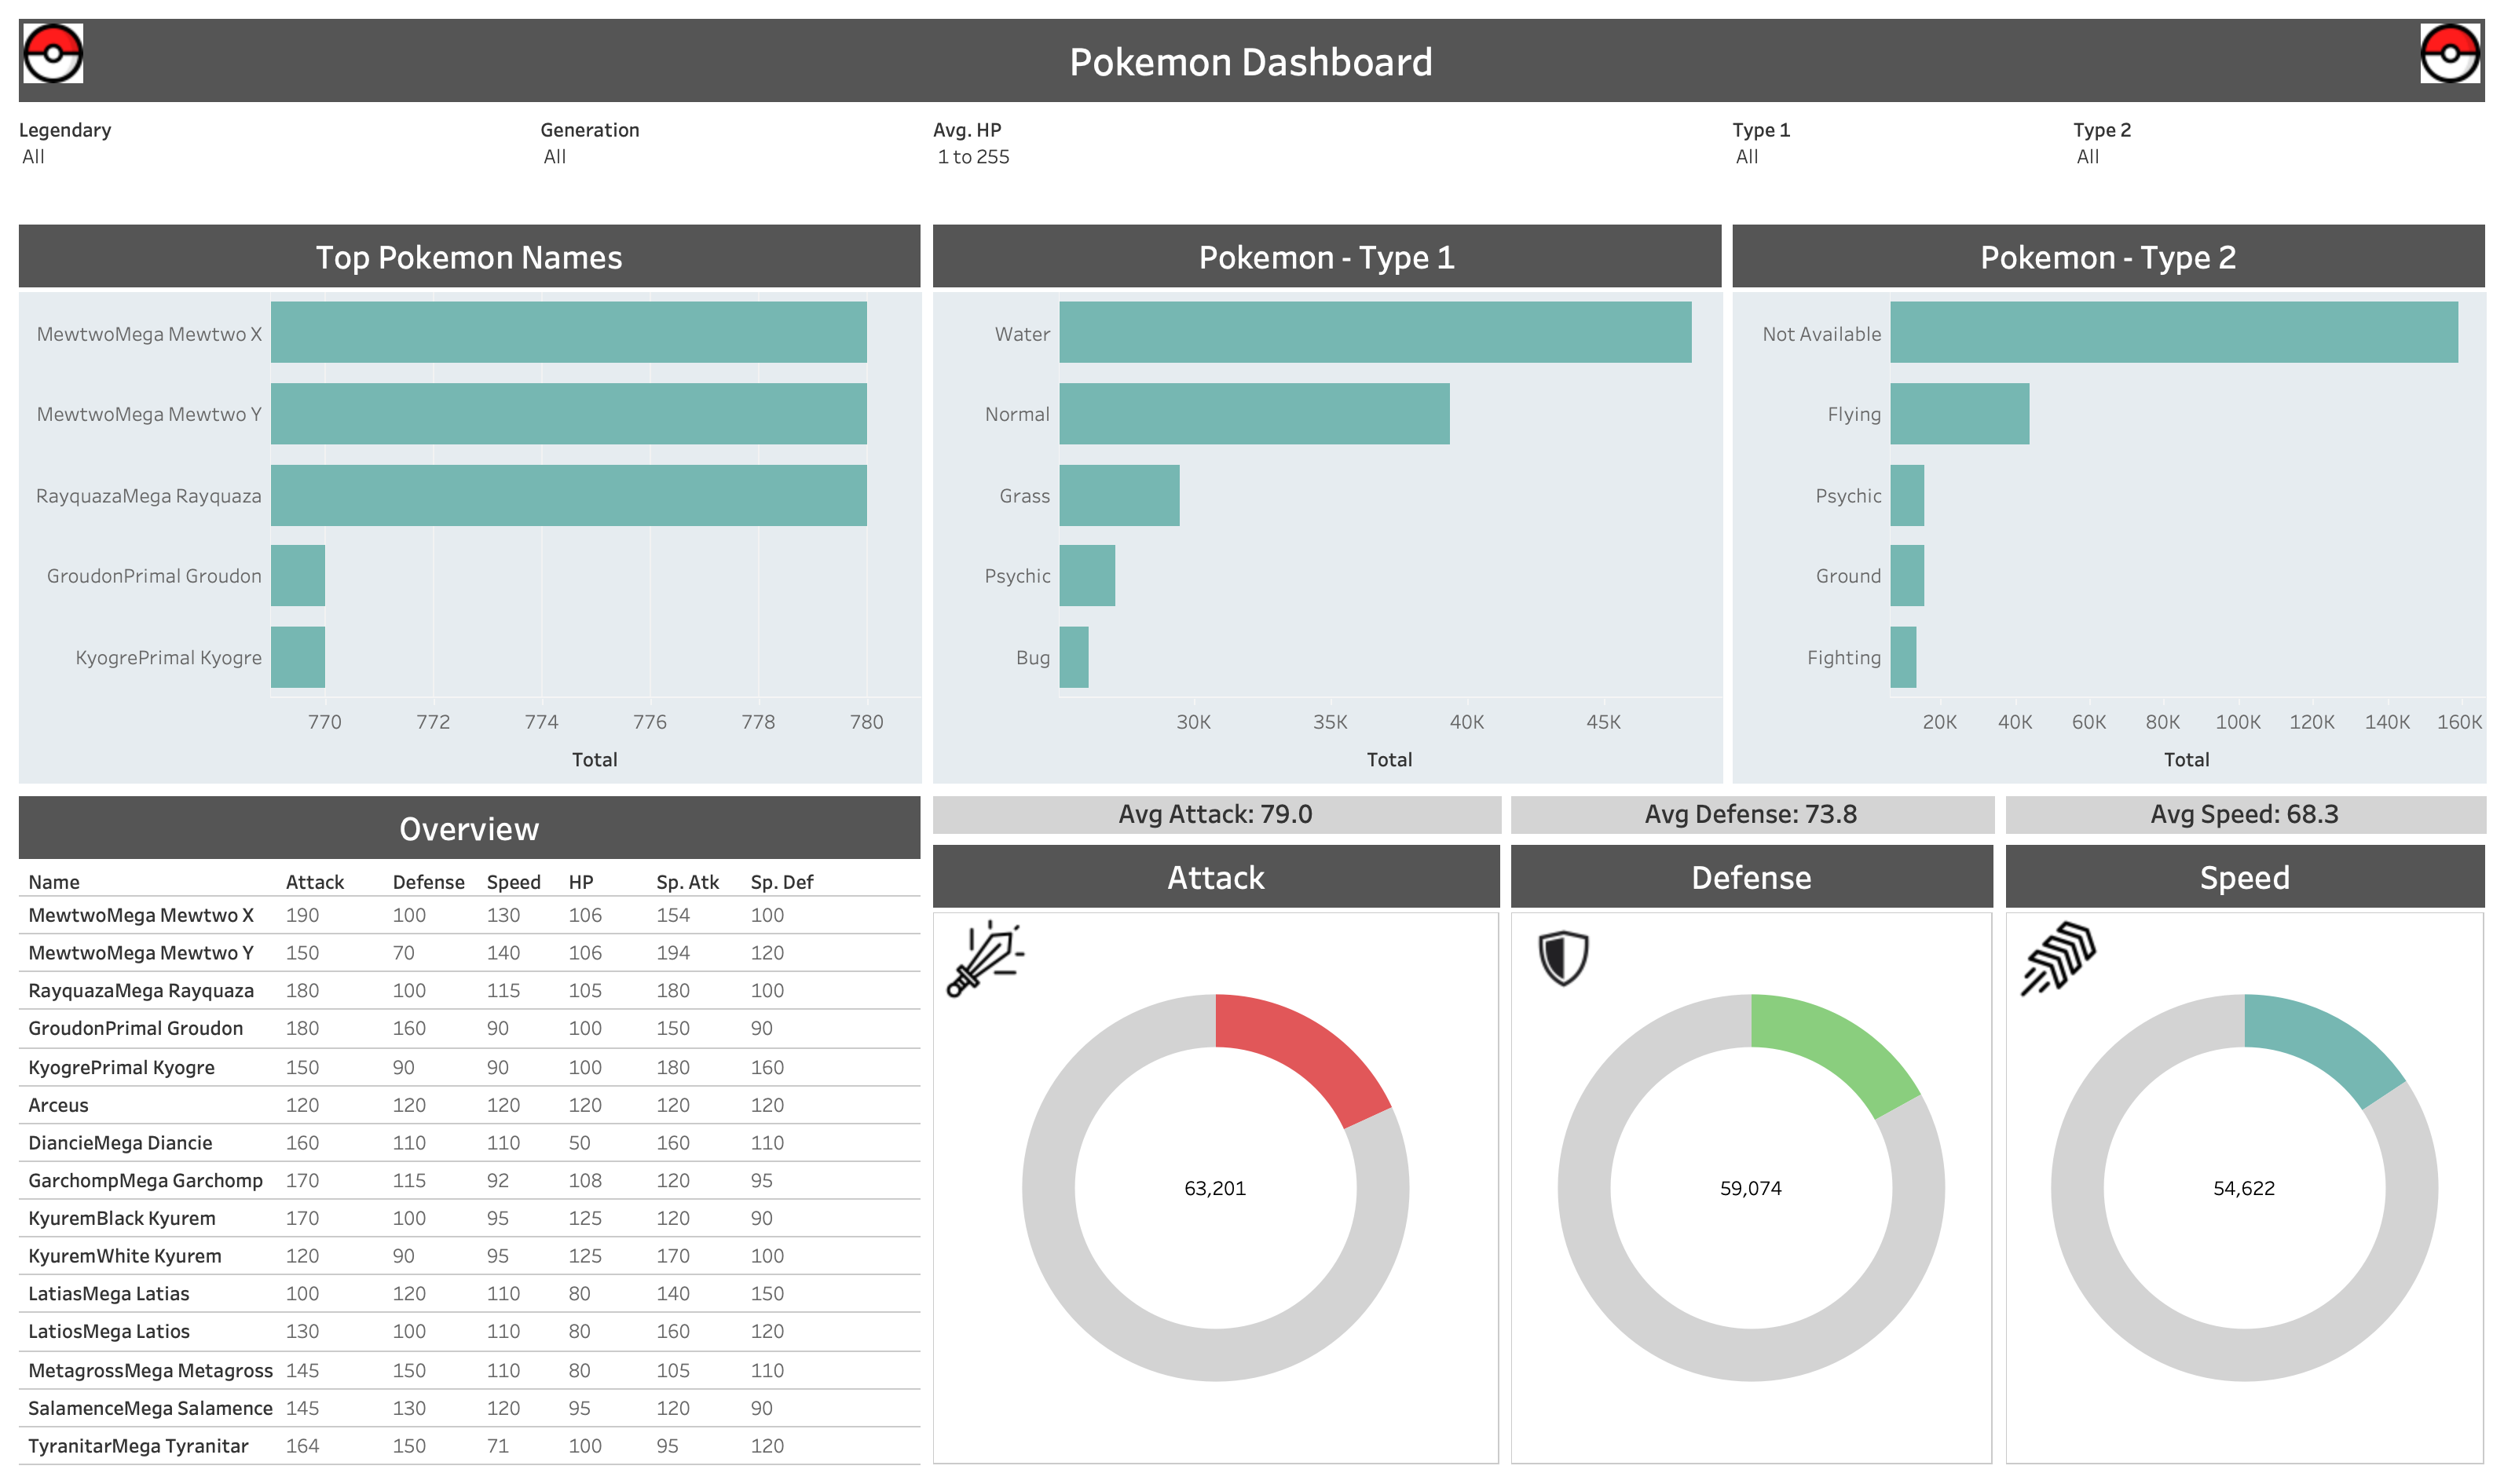

This screenshot's page, from the dashboard's own definition file:
{"tool":"tableau","page":{"name":"Dashboard 2","canvas":[1000,1000],"units":"permille","ordinal":1},"visuals":[{"type":"title","box":[2.3,4.1,995.5,31.2]},{"type":"image","param":"C:/Users/12197/Desktop/Github/Jerry_Huang_DS_Project_Portfolio/Pokemon_Data_Visu","box":[9.4,15.9,23.8,40.2]},{"type":"image","param":"C:/Users/12197/Desktop/Github/Jerry_Huang_DS_Project_Portfolio/Pokemon_Data_Visu","box":[966.8,15.9,23.8,40.2]},{"type":"filter","title":"Attack","param":"[federated.0xkxq9t19dd2c313m0fey19x07z7].[none:Legendary:nk]","box":[2.3,35.2,209.1,77.4]},{"type":"filter","title":"pokemon names","param":"[federated.0xkxq9t19dd2c313m0fey19x07z7].[none:Generation:ok]","box":[211.4,35.2,157.8,77.4]},{"type":"filter","title":"pokemon names","param":"[federated.0xkxq9t19dd2c313m0fey19x07z7].[avg:HP:qk]","box":[369.2,35.2,321.6,77.8]},{"type":"filter","title":"Attack","param":"[federated.0xkxq9t19dd2c313m0fey19x07z7].[none:Type 1:nk]","box":[690.7,35.2,136.4,77.4]},{"type":"filter","title":"pokemon names","param":"[federated.0xkxq9t19dd2c313m0fey19x07z7].[none:Type 2:nk]","box":[827.1,35.2,170.6,35.8]},{"type":"worksheet","title":"pokemon names","mark":"Automatic","rows":["Name"],"cols":["Total"],"box":[2.3,112.7,366.9,402.9]},{"type":"worksheet","title":"Type 2","mark":"Automatic","rows":["Type 2"],"cols":["Total"],"box":[690.7,112.7,307,402.9]},{"type":"worksheet","title":"Type 1","mark":"Automatic","rows":["Type 1"],"cols":["Total"],"box":[369.2,113,321.6,402.5]},{"type":"worksheet","title":"Overview","mark":"Automatic","rows":["Name","Attack","Defense","Speed","HP","Sp. Atk","Sp. Def"],"box":[2.3,515.5,366.9,480.4]},{"type":"worksheet","title":"AvgA","mark":"Automatic","box":[369.2,515.5,232.5,34.6]},{"type":"worksheet","title":"AvgD","mark":"Automatic","box":[601.7,515.5,198.7,34.6]},{"type":"worksheet","title":"AvgS","mark":"Automatic","box":[800.4,515.5,197.4,34.6]},{"type":"worksheet","title":"Attack","mark":"Pie","rows":["Attack","Attack"],"box":[369.2,550.1,232.5,445.8]},{"type":"worksheet","title":"Defense","mark":"Pie","rows":["Defense","Defense"],"box":[601.7,550.1,198.7,445.8]},{"type":"worksheet","title":"Speed","mark":"Pie","rows":["Speed","Speed"],"box":[800.4,550.1,197.4,445.8]},{"type":"image","param":"C:/Users/12197/Desktop/Github/Jerry_Huang_DS_Project_Portfolio/Pokemon_Data_Visu","box":[375.7,615.9,35.9,63.5]},{"type":"image","param":"C:/Users/12197/Desktop/Github/Jerry_Huang_DS_Project_Portfolio/Pokemon_Data_Visu","box":[606.7,615.9,35.9,63.5]},{"type":"image","param":"C:/Users/12197/Desktop/Github/Jerry_Huang_DS_Project_Portfolio/Pokemon_Data_Visu","box":[804.3,615.9,35.9,63.5]}]}

Visuals, with their boxes on the dashboard's canvas, which has no fixed pixel size, in thousandths of its width and height (x1, y1, x2, y2). These are canvas units, not pixel positions in the 2504x1484 screenshot, which may show the page scaled, cropped or inside an application window:
title: detection(2, 4, 998, 35)
image: detection(9, 16, 33, 56)
image: detection(967, 16, 991, 56)
"Attack" filter: detection(2, 35, 211, 113)
"pokemon names" filter: detection(211, 35, 369, 113)
"pokemon names" filter: detection(369, 35, 691, 113)
"Attack" filter: detection(691, 35, 827, 113)
"pokemon names" filter: detection(827, 35, 998, 71)
"pokemon names" worksheet: detection(2, 113, 369, 516)
"Type 2" worksheet: detection(691, 113, 998, 516)
"Type 1" worksheet: detection(369, 113, 691, 516)
"Overview" worksheet: detection(2, 516, 369, 996)
"AvgA" worksheet: detection(369, 516, 602, 550)
"AvgD" worksheet: detection(602, 516, 800, 550)
"AvgS" worksheet: detection(800, 516, 998, 550)
"Attack" worksheet (Pie marks): detection(369, 550, 602, 996)
"Defense" worksheet (Pie marks): detection(602, 550, 800, 996)
"Speed" worksheet (Pie marks): detection(800, 550, 998, 996)
image: detection(376, 616, 412, 679)
image: detection(607, 616, 643, 679)
image: detection(804, 616, 840, 679)
